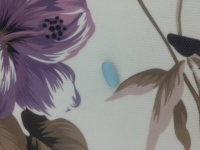Apranax: (100, 60, 120, 87)
